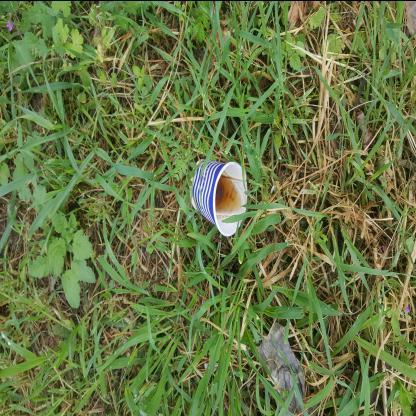karton: (181, 191, 260, 249)
